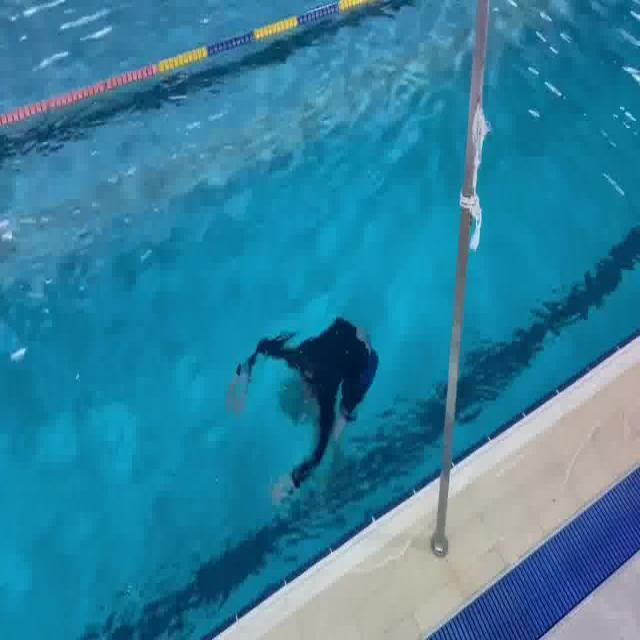Drowning: (221, 284, 401, 514)
